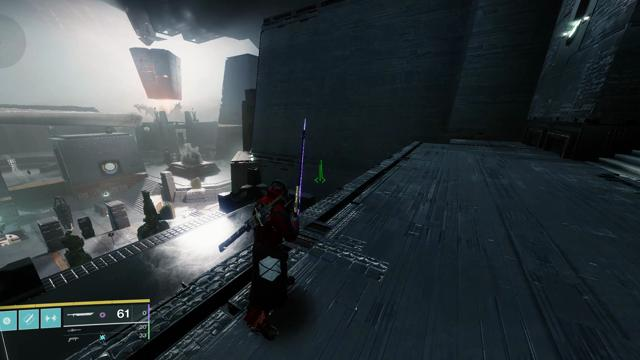commune: (143, 126, 150, 132)
traveler: (102, 162, 118, 174)
